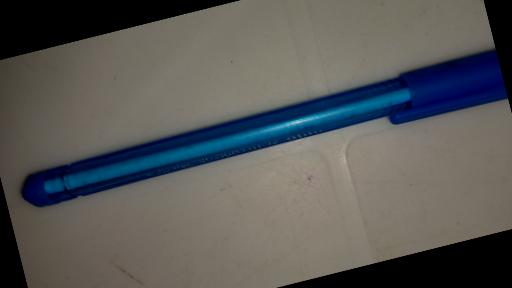pen: (14, 48, 508, 220)
